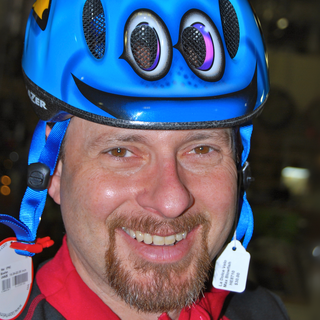eye: (95, 138, 147, 167), (182, 140, 225, 167)
